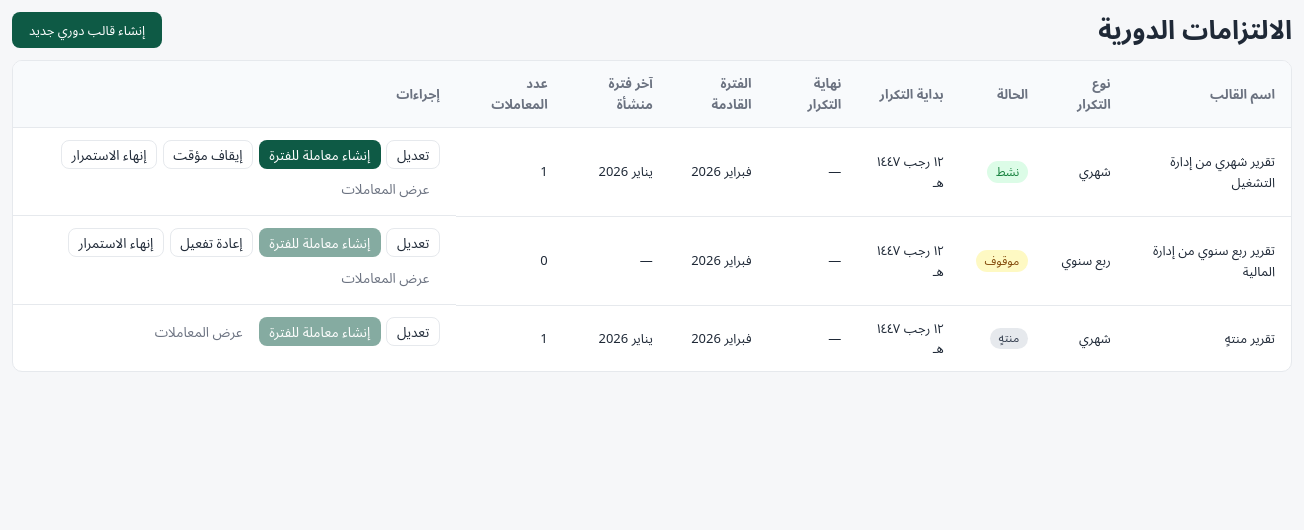
Test: RecurringTemplatesPage › does not show one template's transactions under another template after switching
Expected: the text "تقرير ربع سنوي من إدارة المالية" is shown, [1127,216,1291,305]
Click the button "عرض المعاملات" in the row of "نشط" at [385, 189], box [331,174,440,203]
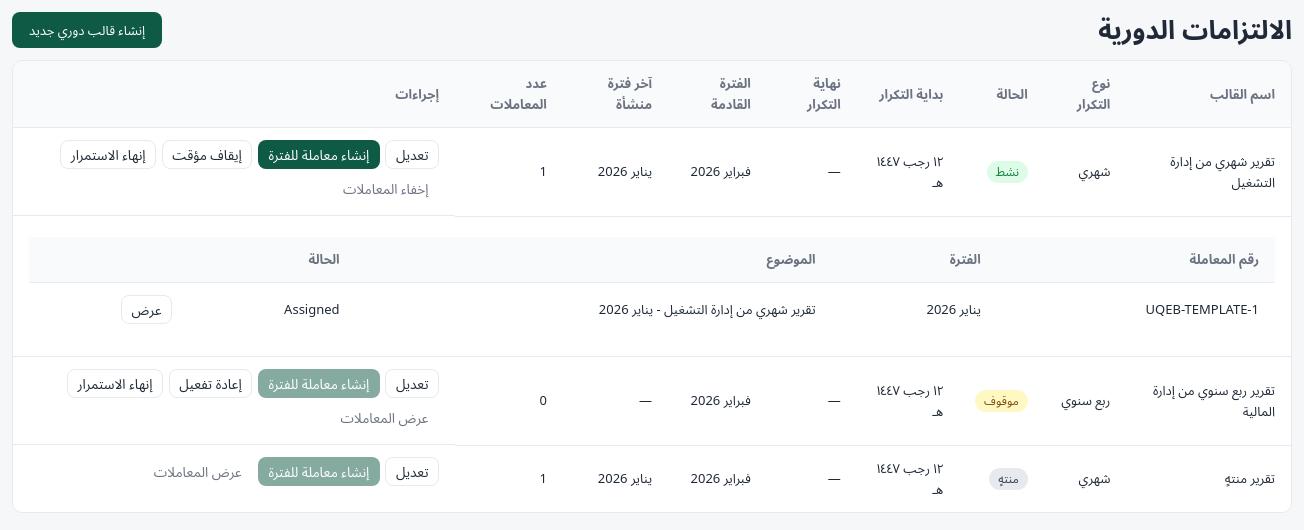
Expected: the text "UQEB-TEMPLATE-1" is shown, [997,282,1275,336]
Click the button "عرض المعاملات" in the row of "موقوف" at [384, 418], box [330,403,439,432]
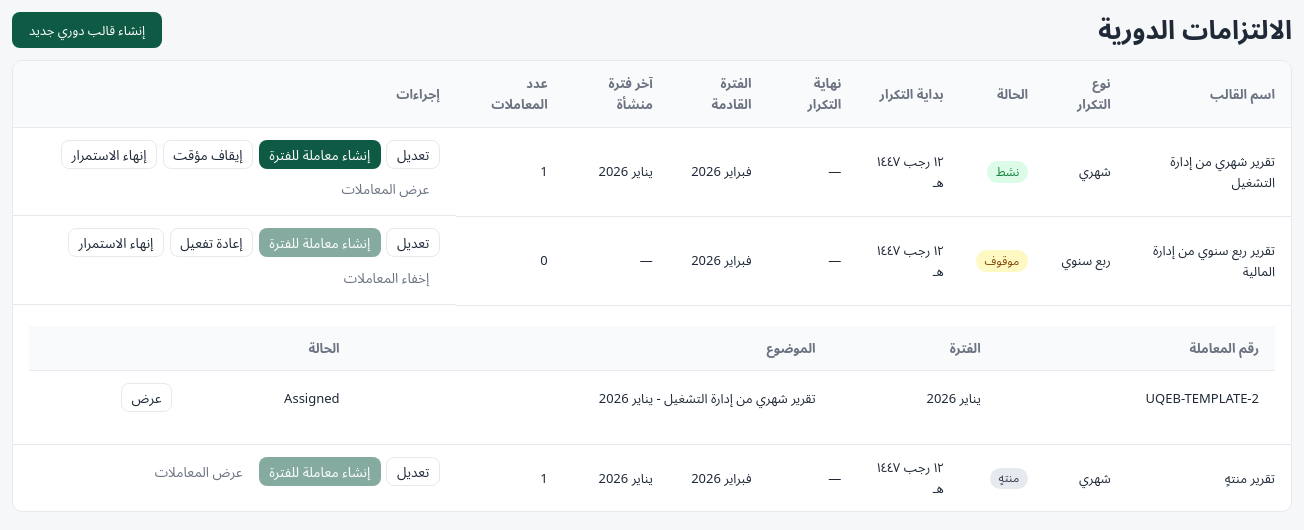
Expected: the text "UQEB-TEMPLATE-2" is shown, [997,371,1275,424]
Expected: the text "UQEB-TEMPLATE-1" is gone
